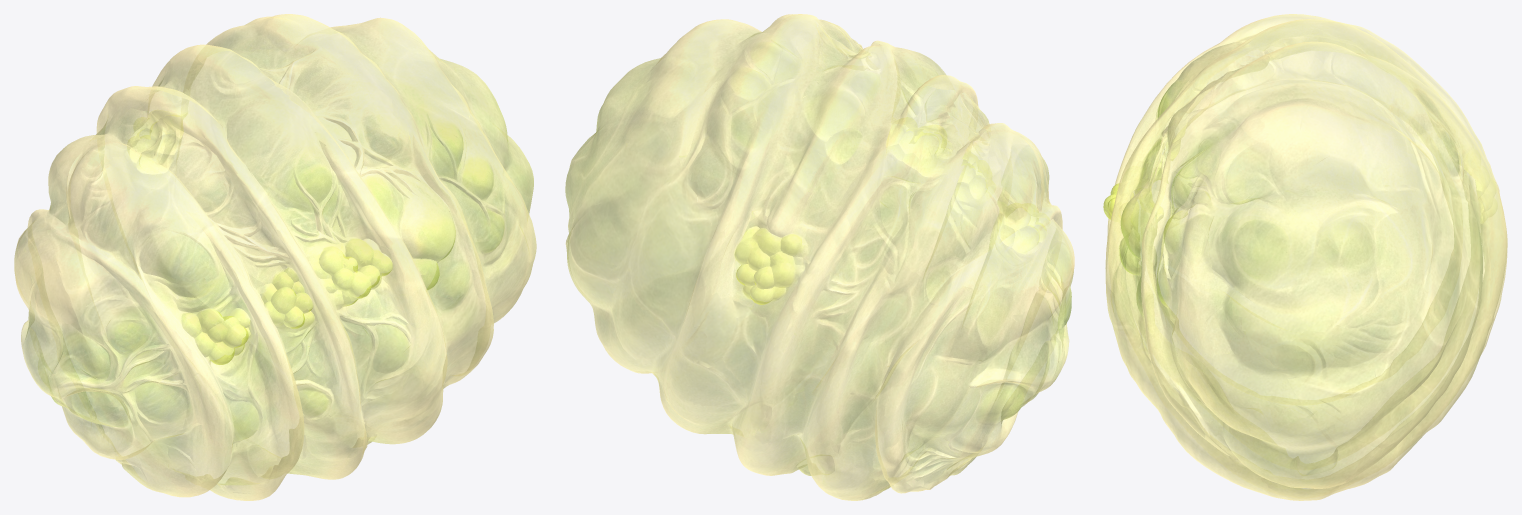
The model's file is cell02.glb.
3 renders of one model, left to right at view 1: azimuth 30°, elevation 25°; view 2: azimuth 150°, elevation 25°; view 3: azimuth 270°, elevation 25°, orthographic.
Visible parts, largest first — view 1: Mesh_0; view 2: Mesh_0; view 3: Mesh_0.
Boxes of the visible parts, bbox=[...] form: Mesh_0: bbox=[14, 14, 536, 500]; Mesh_0: bbox=[565, 14, 1074, 500]; Mesh_0: bbox=[1103, 14, 1507, 500].
Size of the model in its own units: 1.9 by 1.72 by 1.38.
Materials: 1 (1 with a texture image).
